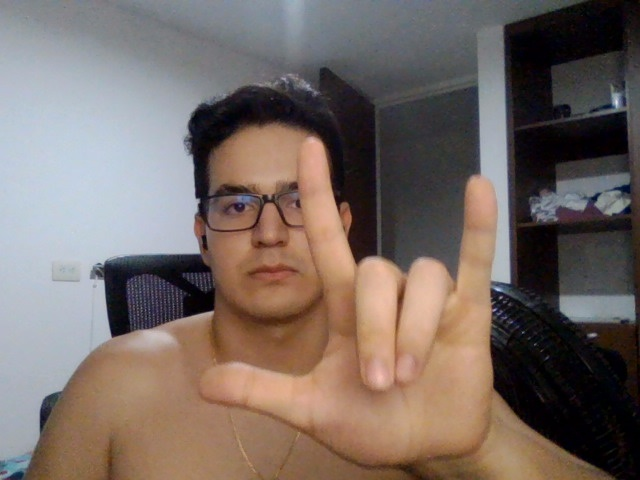YouRock: (167, 128, 534, 471)
